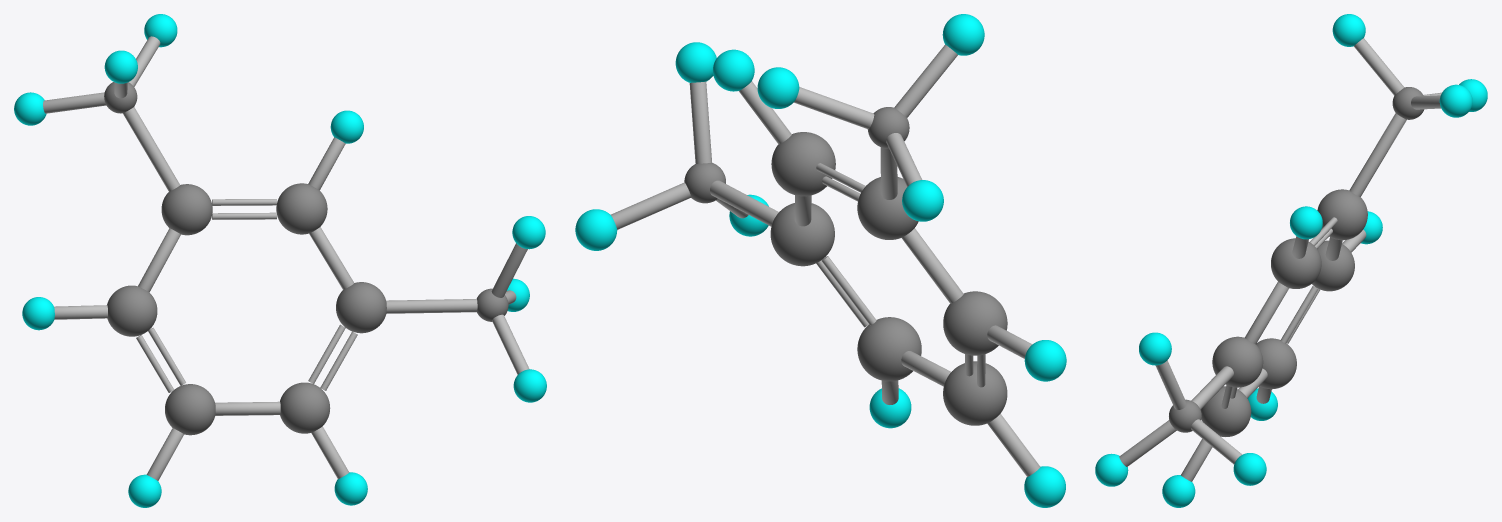
The model's file is m-xylene.glb.
The picture shows the model from 3 angles, left to right: view 1: azimuth 30°, elevation 25°; view 2: azimuth 150°, elevation 25°; view 3: azimuth 270°, elevation 25°; orthographic projection. The views are drawn at different scales.
Visible parts, largest first — view 1: CMAtom_1, CMAtom_4, CMAtom_2, CMAtom_0, CMAtom_5, CMAtom_3, CMBond_12_Segment_0, CMBond_11_Segment_0, CMBond_10_Segment_0, CMBond_1_Segment_0, CMBond_7_Segment_0, CMAtom_16 (+17 smaller); view 2: CMAtom_1, CMAtom_2, CMAtom_5, CMAtom_4, CMAtom_0, CMAtom_3, CMBond_10_Segment_0, CMBond_16_Segment_0, CMBond_21_Segment_0, CMAtom_8, CMAtom_17, CMBond_17_Segment_0 (+19 smaller); view 3: CMAtom_0, CMAtom_3, CMAtom_1, CMAtom_2, CMAtom_4, CMAtom_5, CMBond_11_Segment_0, CMBond_1_Segment_0, CMAtom_17, CMAtom_7, CMAtom_13, CMAtom_14 (+15 smaller).
Boxes of the visible parts, x1=… form: CMAtom_1: x1=276, y1=183, x2=327, y2=234; CMAtom_4: x1=165, y1=384, x2=215, y2=435; CMAtom_2: x1=280, y1=382, x2=330, y2=433; CMAtom_0: x1=336, y1=282, x2=386, y2=333; CMAtom_5: x1=107, y1=285, x2=157, y2=336; CMAtom_3: x1=161, y1=184, x2=212, y2=235; CMBond_12_Segment_0: x1=386, y1=299, x2=477, y2=313; CMBond_11_Segment_0: x1=123, y1=107, x2=179, y2=191; CMBond_10_Segment_0: x1=138, y1=228, x2=180, y2=292; CMBond_1_Segment_0: x1=309, y1=227, x2=353, y2=289; CMBond_7_Segment_0: x1=215, y1=401, x2=280, y2=415; CMAtom_16: x1=104, y1=50, x2=137, y2=83; CMAtom_1: x1=771, y1=132, x2=835, y2=196; CMAtom_2: x1=857, y1=317, x2=921, y2=381; CMAtom_5: x1=943, y1=291, x2=1007, y2=355; CMAtom_4: x1=943, y1=361, x2=1007, y2=425; CMAtom_0: x1=770, y1=203, x2=834, y2=266; CMAtom_3: x1=857, y1=177, x2=918, y2=239; CMBond_10_Segment_0: x1=901, y1=228, x2=963, y2=303; CMBond_16_Segment_0: x1=689, y1=81, x2=711, y2=163; CMBond_21_Segment_0: x1=894, y1=44, x2=957, y2=117; CMAtom_8: x1=1024, y1=340, x2=1066, y2=381; CMAtom_17: x1=757, y1=67, x2=799, y2=108; CMBond_17_Segment_0: x1=611, y1=182, x2=691, y2=229; CMAtom_0: x1=1212, y1=336, x2=1263, y2=387; CMAtom_3: x1=1317, y1=189, x2=1367, y2=240; CMAtom_1: x1=1271, y1=238, x2=1321, y2=288; CMAtom_2: x1=1200, y1=386, x2=1251, y2=436; CMAtom_4: x1=1256, y1=338, x2=1296, y2=389; CMAtom_5: x1=1312, y1=240, x2=1354, y2=291; CMBond_11_Segment_0: x1=1349, y1=113, x2=1406, y2=196; CMBond_1_Segment_0: x1=1244, y1=282, x2=1289, y2=344; CMAtom_17: x1=1439, y1=84, x2=1472, y2=117; CMAtom_7: x1=1290, y1=206, x2=1322, y2=239; CMAtom_13: x1=1139, y1=332, x2=1171, y2=365; CMAtom_14: x1=1233, y1=453, x2=1266, y2=485.
Bounding box in the file's own units: 6.17 × 5.63 × 4.76.
